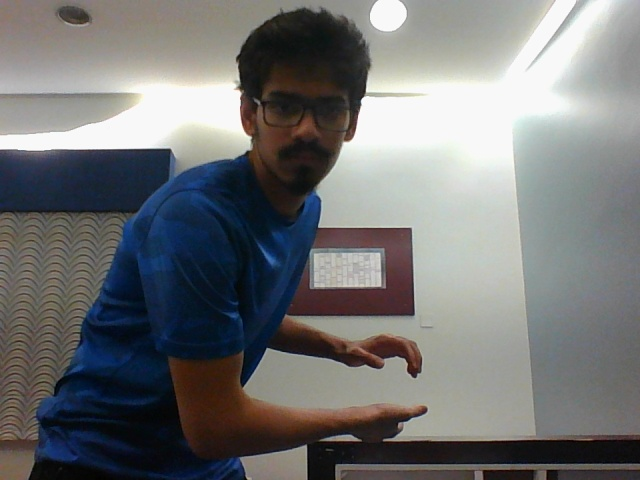charge: (332, 327, 430, 444)
